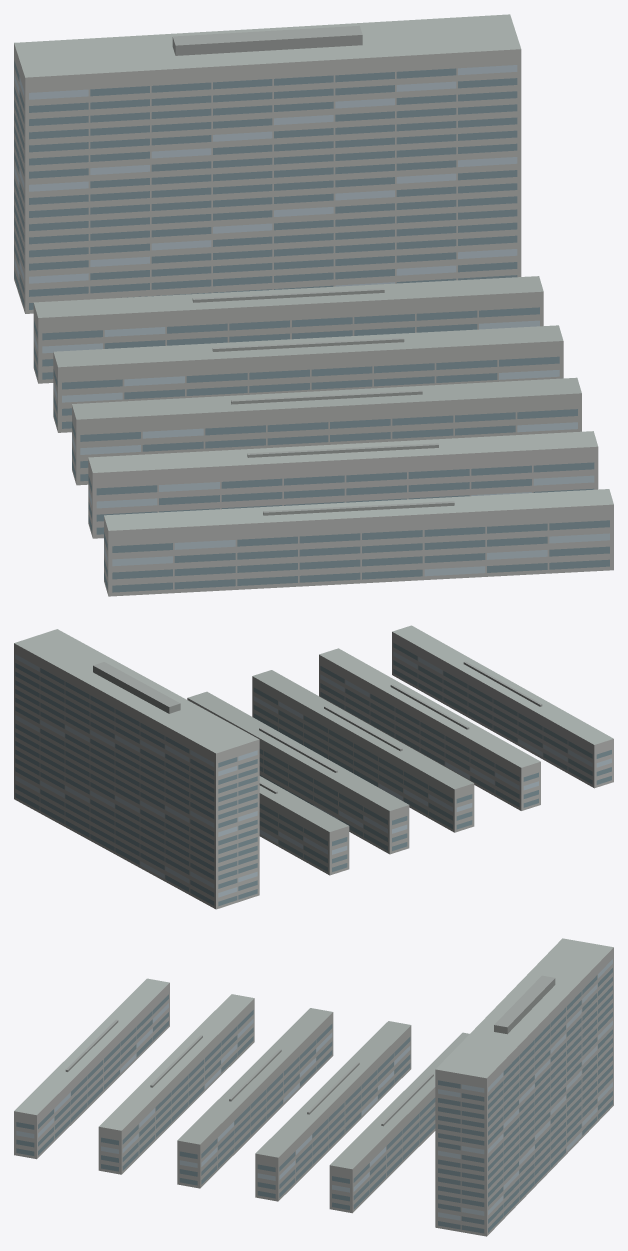
The model's file is apt-a14003002.glb.
3 renders of one model, top to bottom at view 1: azimuth 30°, elevation 25°; view 2: azimuth 150°, elevation 25°; view 3: azimuth 270°, elevation 25°, orthographic. The views are drawn at different scales.
Parts seen in each view (by area): view 1: apt-a14003002; view 2: apt-a14003002; view 3: apt-a14003002.
Boxes of the visible parts, x1,y1,x2,y2 form: apt-a14003002: (14, 14, 613, 596); apt-a14003002: (14, 625, 613, 909); apt-a14003002: (14, 938, 613, 1236).
Bounding box in the file's own units: 159 × 57.3 × 189.
